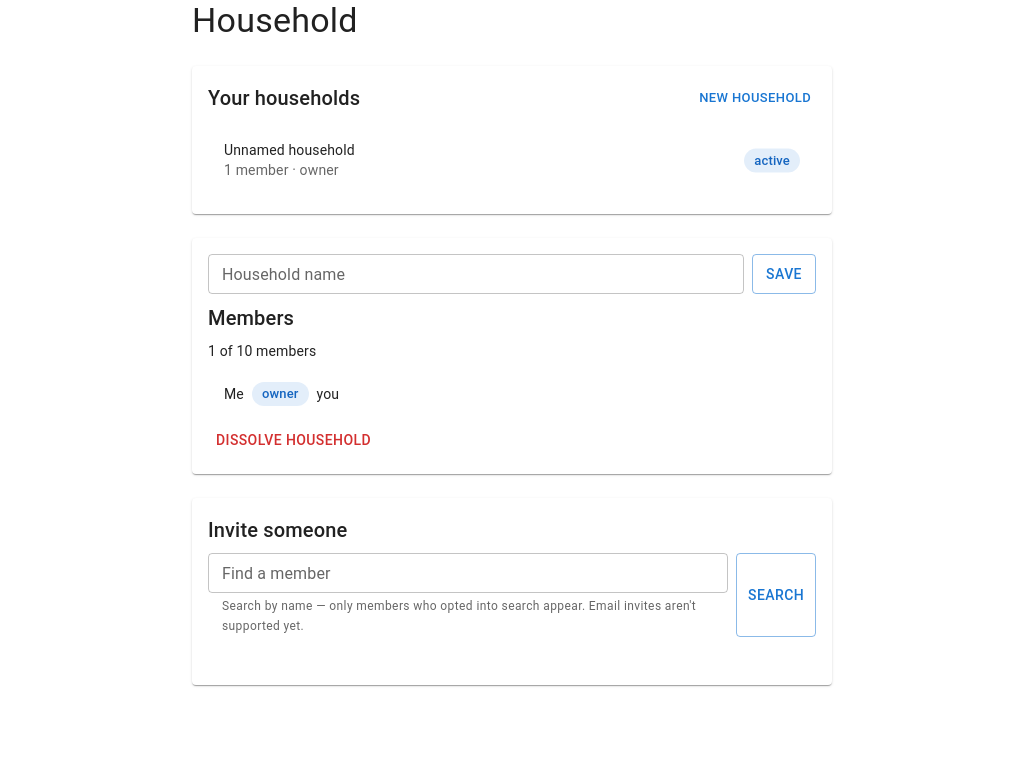
Test: household page › cancel on the dissolve dialog leaves the household intact
Click the button "Dissolve household". click: (294, 440)
box: 208,422 -> 379,458
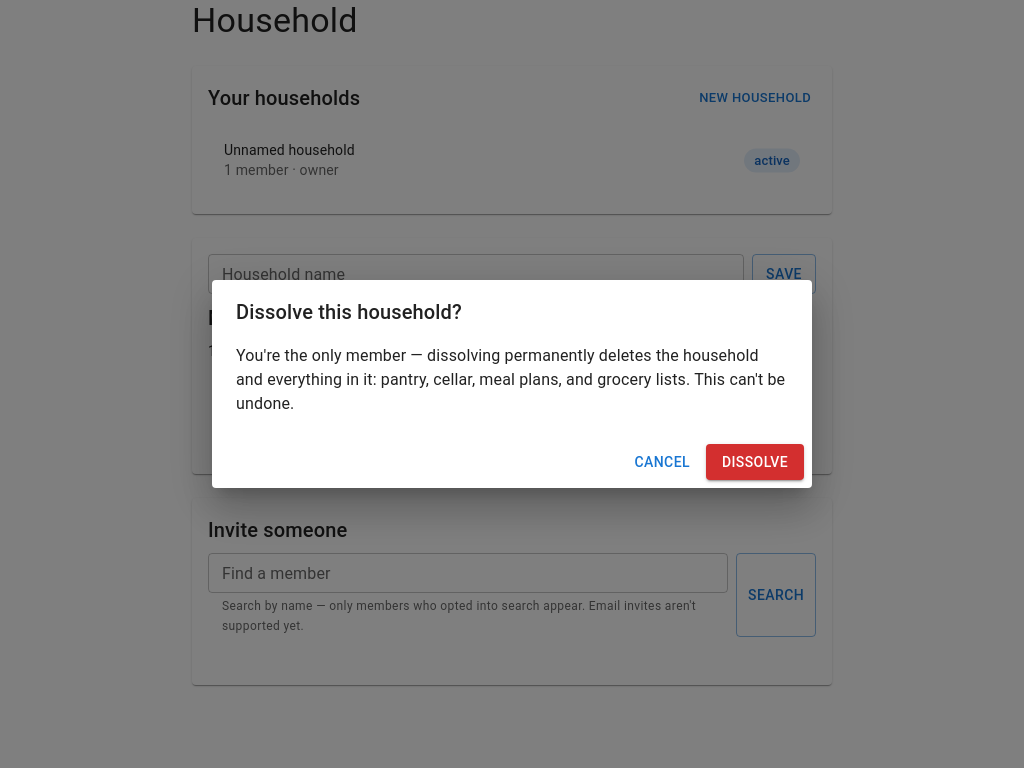
Click the button "Cancel". click: (662, 462)
box: 626,444 -> 698,480
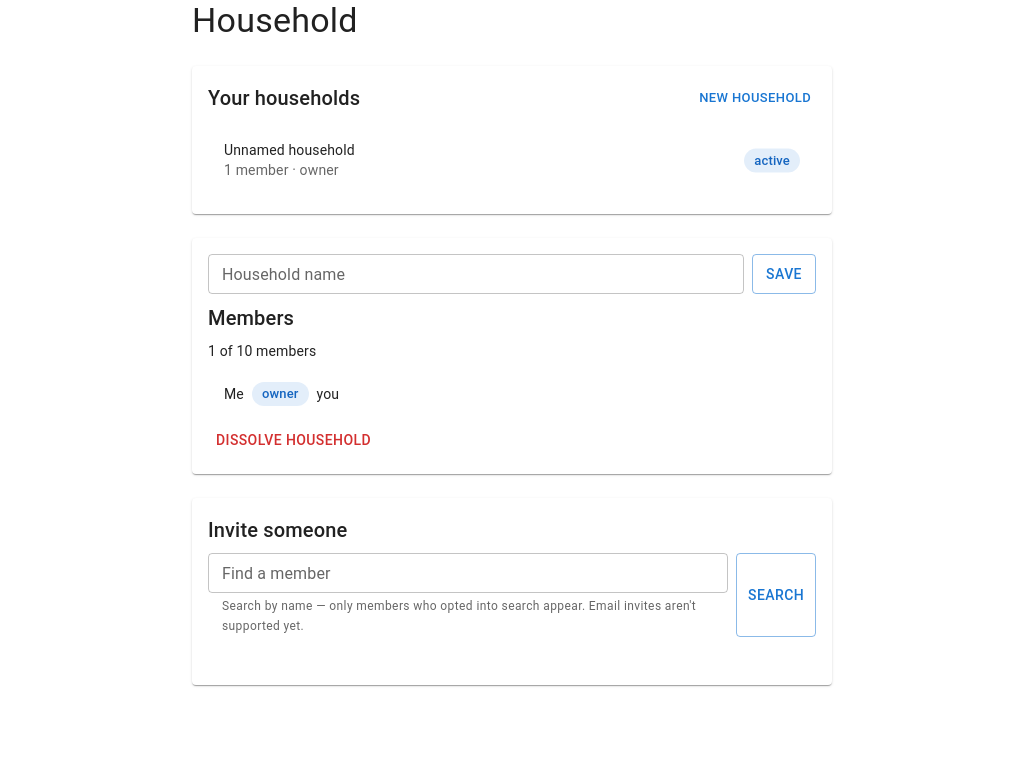
expect the dialog is gone: met
